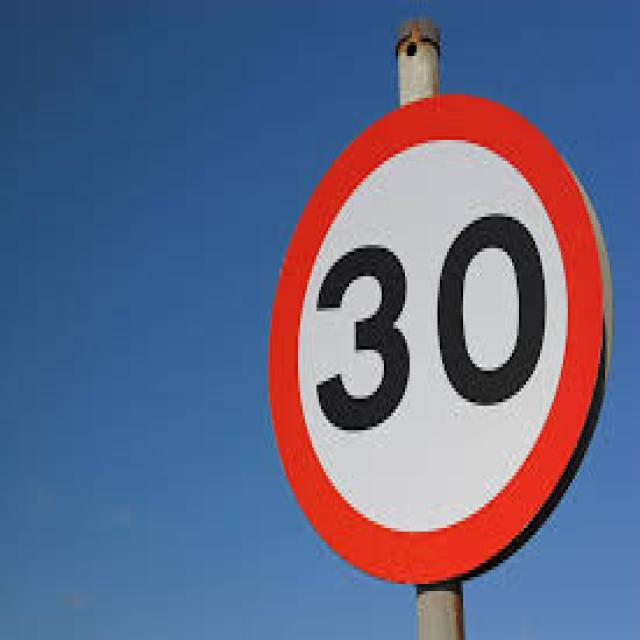Speed limit 30: (264, 89, 615, 589)
